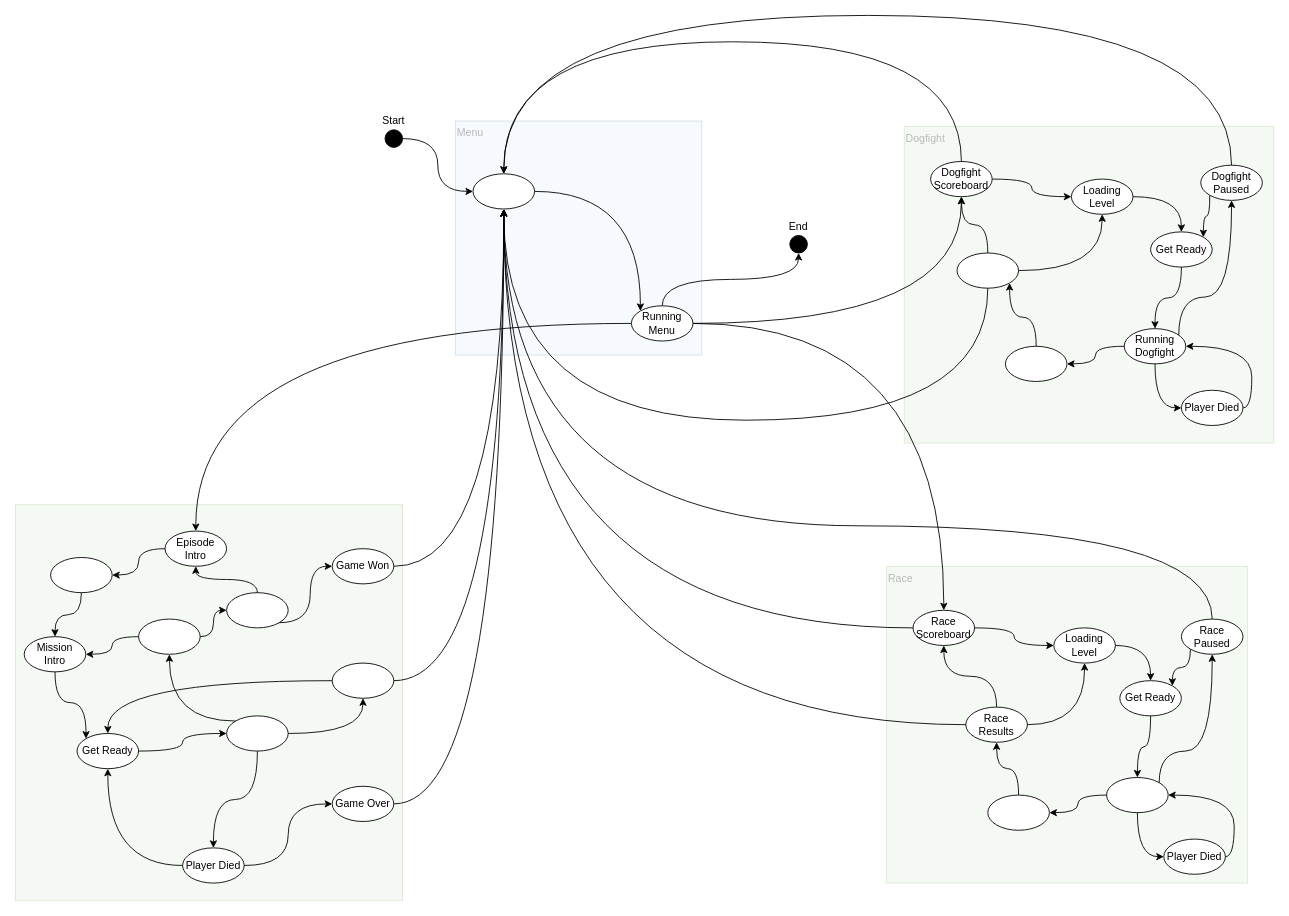
Some shapes in this 1289 by 916 pixel diagram are drawn without their labels. The shapes that lost their labels are listed below. From the top down, each one's box as (x1, y1, x2, y2) in pixels, then its label:
(472, 173, 535, 209): Loading Menu
(956, 252, 1019, 288): Dogfight Results
(1005, 345, 1067, 381): Dogfight Completed
(50, 557, 112, 593): Loading Mission
(226, 592, 288, 628): Episode Outro
(138, 618, 200, 654): Mission Complete
(331, 662, 394, 698): Mission Paused
(15, 504, 403, 901): Campaign
(226, 715, 288, 751): Running Mission
(987, 794, 1049, 830): Race Completed
(1106, 777, 1168, 813): Running Race
